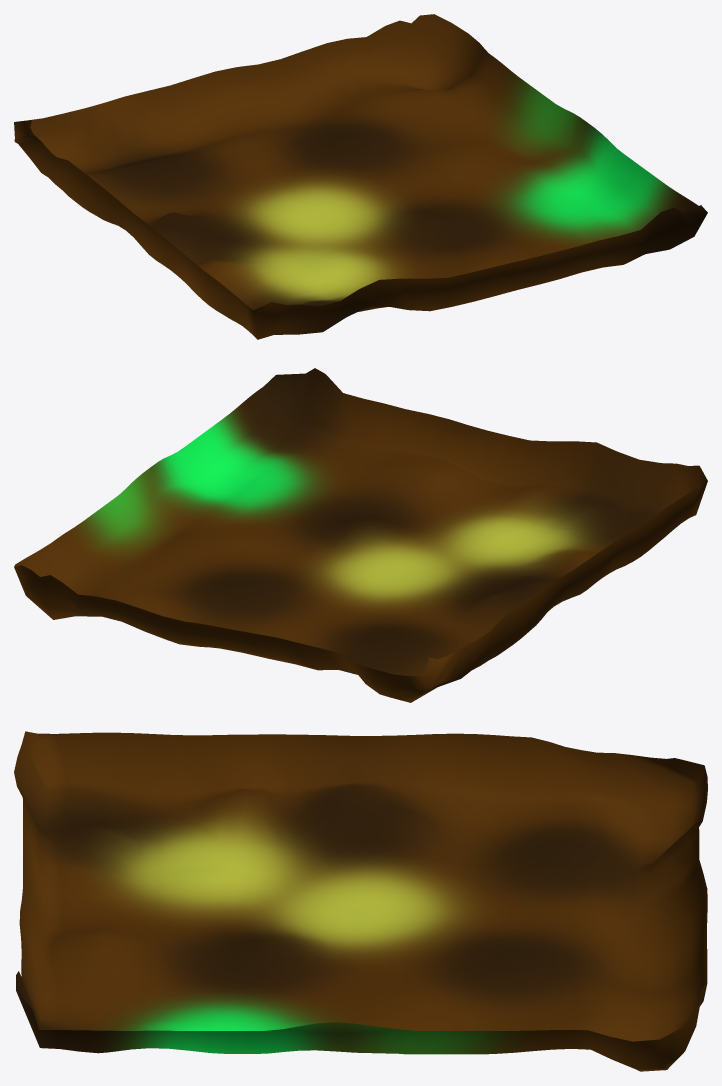
Rendered from asd.gltf.
The picture shows the model from 3 angles, top to bottom: view 1: azimuth 30°, elevation 25°; view 2: azimuth 150°, elevation 25°; view 3: azimuth 270°, elevation 25°; orthographic projection. The views are drawn at different scales.
Visible parts, largest first — view 1: Plane; view 2: Plane; view 3: Plane.
Boxes of the visible parts, x1,y1,x2,y2 form: Plane: (14, 14, 707, 339); Plane: (14, 368, 707, 702); Plane: (14, 731, 707, 1071).
Size of the model in its own units: 883 by 131 by 912.
1 material, 1 textured.
